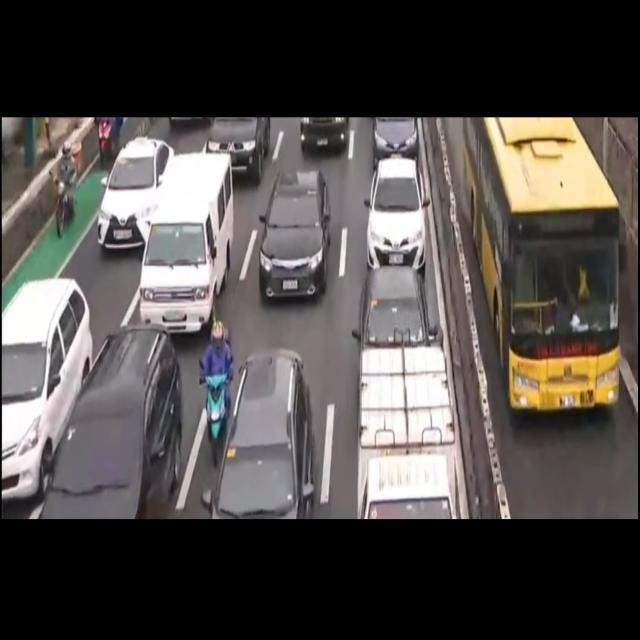Bus: (462, 122, 624, 430)
Motorcycle: (197, 317, 234, 456), (53, 130, 80, 240)
Pick-up: (351, 342, 465, 517), (142, 154, 232, 326)
SUV: (43, 330, 181, 520), (0, 278, 90, 494), (204, 350, 313, 526)
Sedan: (260, 165, 328, 302), (364, 158, 432, 272), (102, 139, 174, 246), (357, 259, 435, 350)
